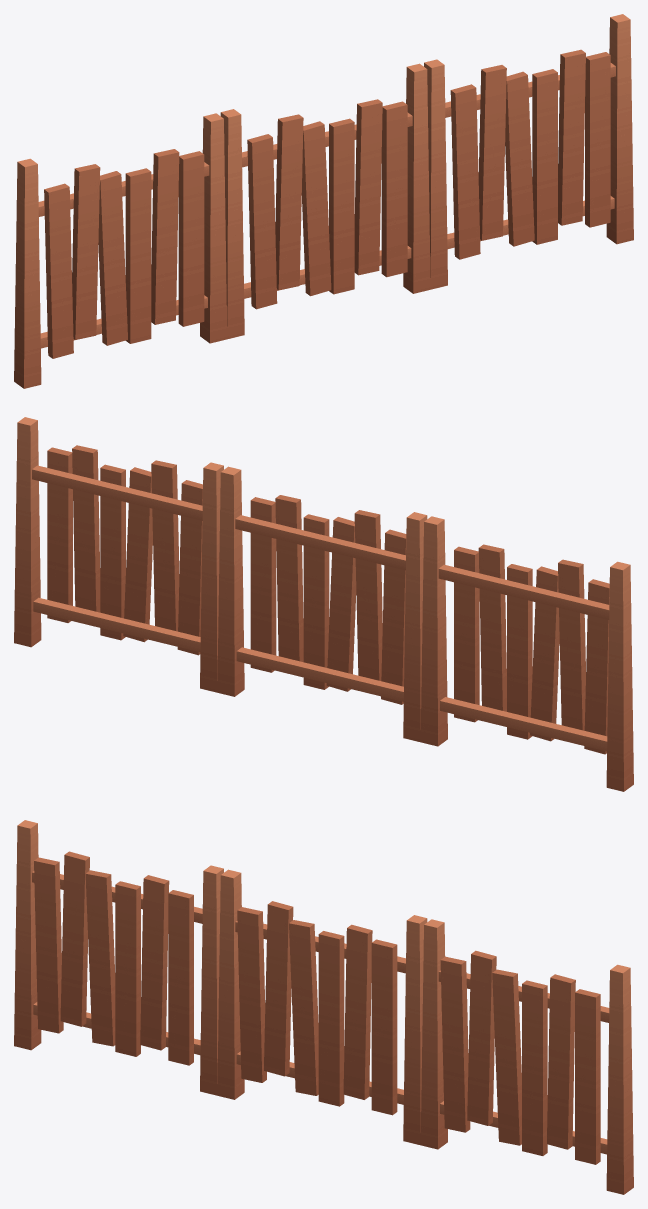
Rendered from palisade.glb.
The picture shows the model from 3 angles, top to bottom: view 1: azimuth 30°, elevation 25°; view 2: azimuth 150°, elevation 25°; view 3: azimuth 330°, elevation 25°; orthographic projection.
Parts seen in each view (by area): view 1: palisade; view 2: palisade; view 3: palisade.
Part boxes in pixels (bbox=[...]): palisade: bbox=[14, 14, 633, 388]; palisade: bbox=[14, 417, 633, 791]; palisade: bbox=[14, 820, 633, 1194].
Bounding box in the file's own units: 9 × 3.1 × 0.3181.
3 materials, 3 textured.
